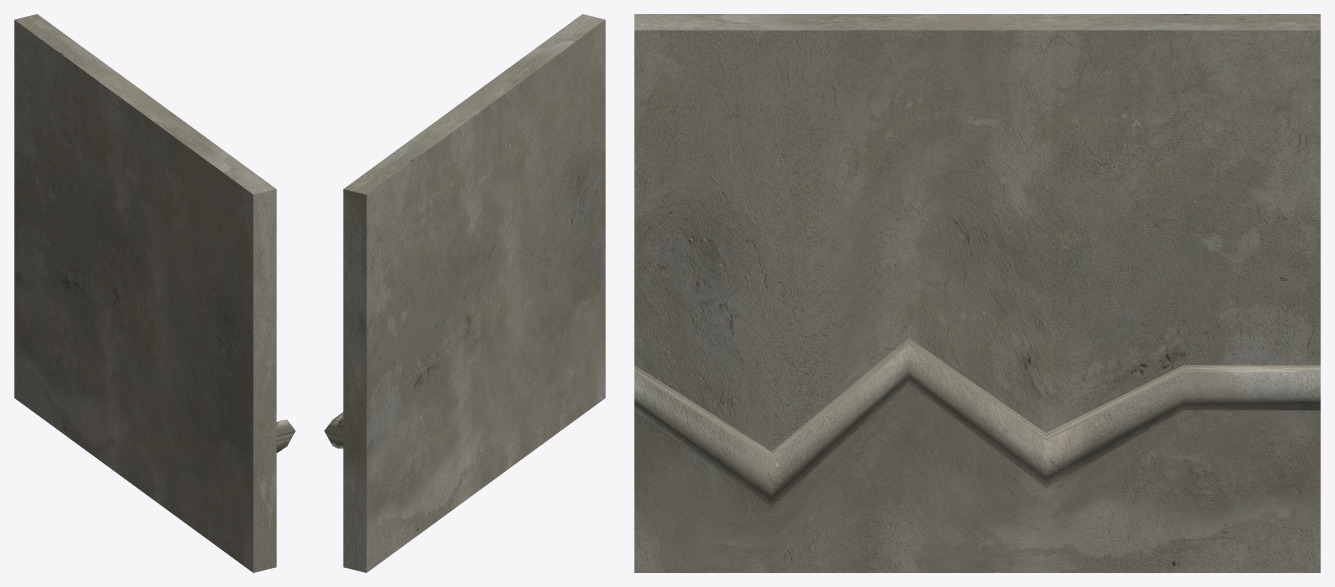
Rendered from Mesh_Static_Pared04_0.fbx.
3 renders of one model, left to right at view 1: azimuth 30°, elevation 25°; view 2: azimuth 150°, elevation 25°; view 3: azimuth 270°, elevation 25°, orthographic. The views are drawn at different scales.
Parts seen in each view (by area): view 1: cuadroesquina.006; view 2: cuadroesquina.006; view 3: cuadroesquina.006.
Boxes of the visible parts, x1,y1,x2,y2 form: cuadroesquina.006: (14,14,295,572); cuadroesquina.006: (324,14,605,572); cuadroesquina.006: (634,14,1320,572).
Size of the model in its own units: 68.11 by 580 by 664.
